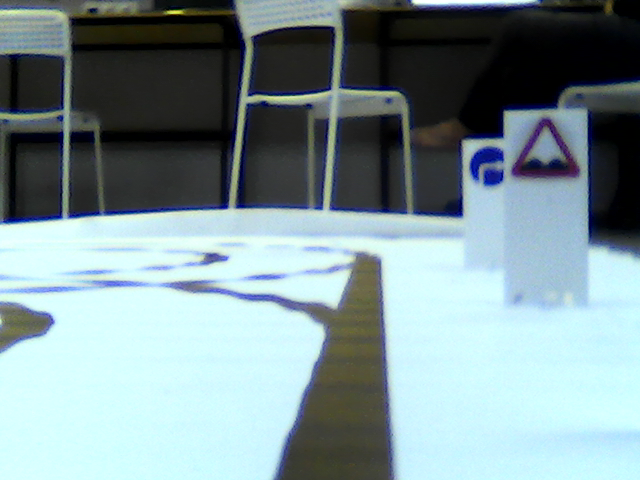Nerov: (509, 114, 585, 183)
Right: (470, 145, 505, 187)
